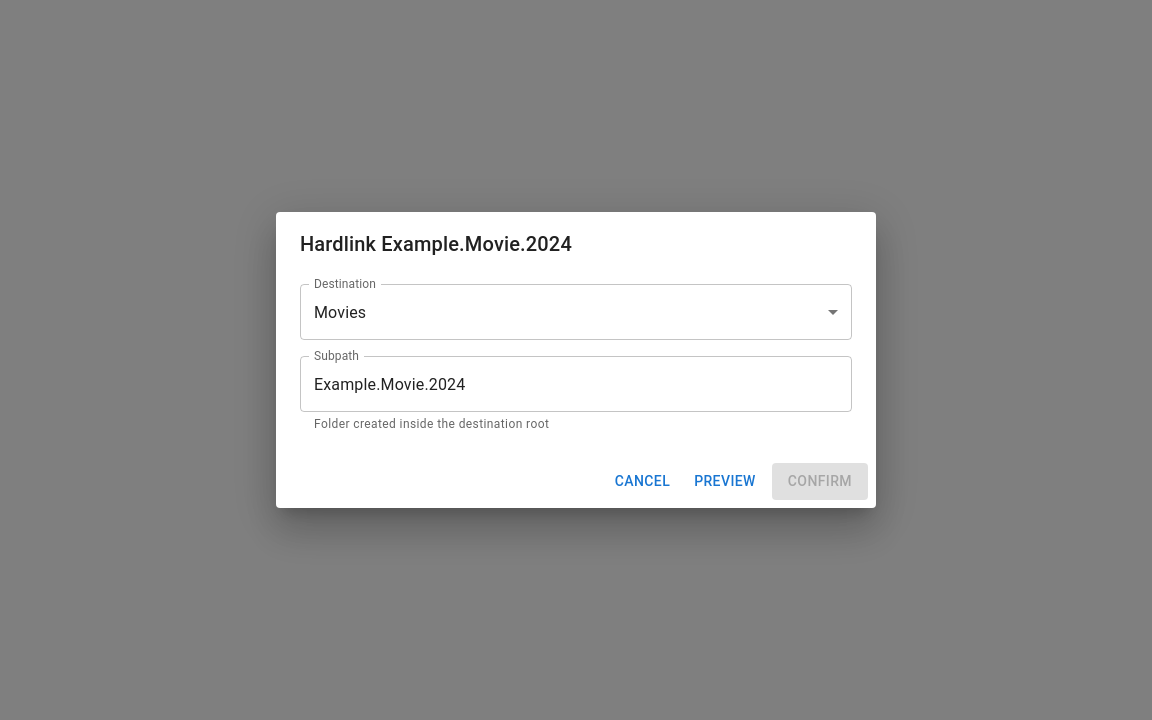
Test case: skipped file names where it is already linked
The image size is (1152, 720).
Click the button "Preview" at point(725, 481), box [686,463,764,500]
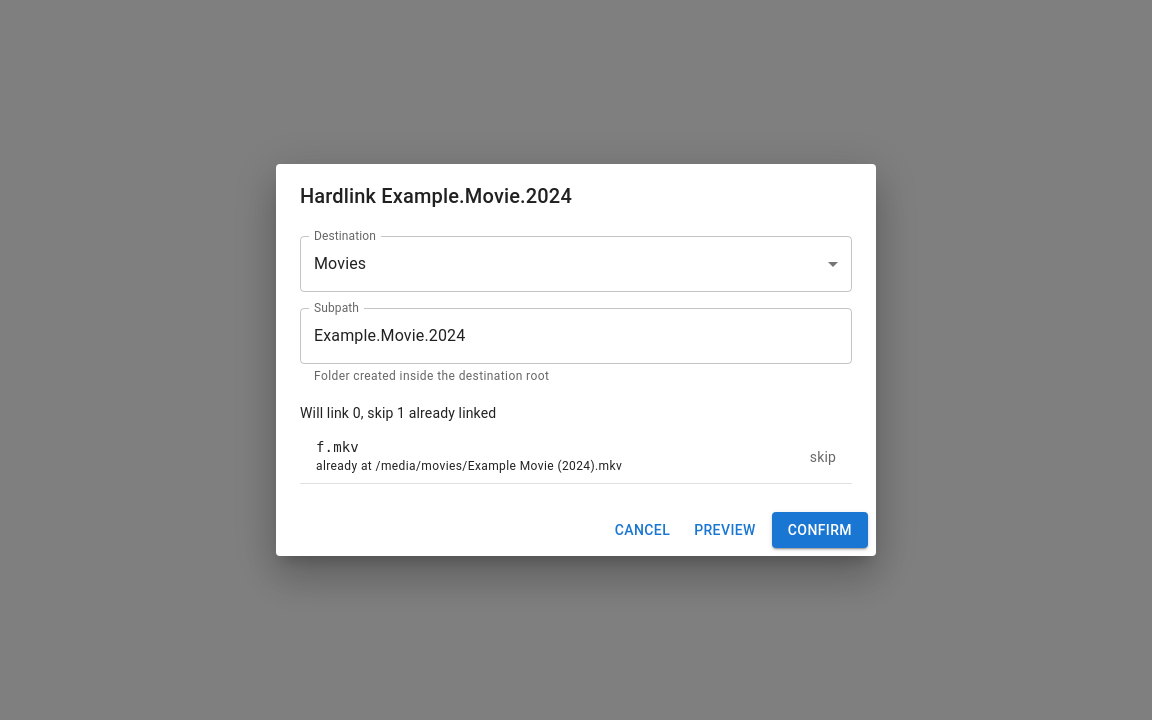
Check: the text "already at /media/movies/Example Movie (2024).mkv" is shown, box [316,459,622,473]
